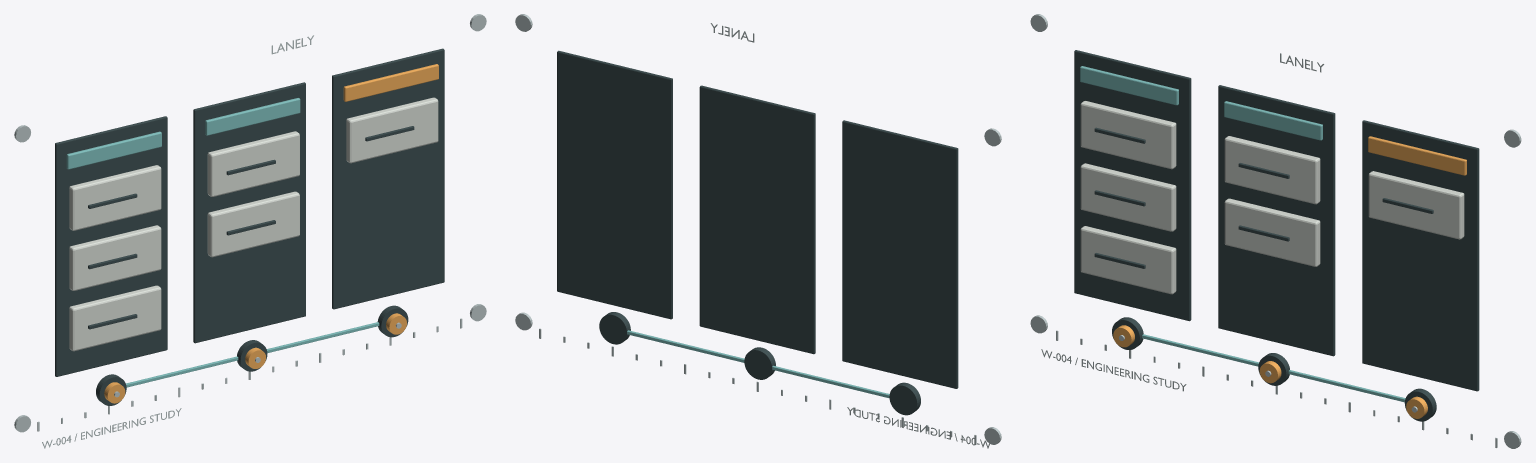
File: lanely.glb
3 views of the same model, side by side, from view 1: azimuth 30°, elevation 25°; view 2: azimuth 150°, elevation 25°; view 3: azimuth 330°, elevation 25° (orthographic). The views are drawn at different scales.
Visible parts, largest first — view 1: optical-core__Project_Graphite.003, optical-core__Project_Ceramic.002, optical-core__Project_Trace.001, optical-core__Project_Amber.003, optical-lenses__Project_Silver.003, optical-lenses__Project_Graphite, optical-lenses__Project_Trace.003; view 2: optical-core__Project_Graphite.003, optical-lenses__Project_Silver.003, optical-lenses__Project_Trace.003; view 3: optical-core__Project_Graphite.003, optical-core__Project_Ceramic.002, optical-core__Project_Trace.001, optical-core__Project_Amber.003, optical-lenses__Project_Silver.003, optical-lenses__Project_Graphite, optical-lenses__Project_Trace.003.
Part boxes in pixels (x1=…): optical-core__Project_Graphite.003: x1=55, y1=48, x2=444, y2=405; optical-core__Project_Ceramic.002: x1=69, y1=97, x2=438, y2=351; optical-core__Project_Trace.001: x1=66, y1=98, x2=300, y2=169; optical-core__Project_Amber.003: x1=104, y1=64, x2=438, y2=403; optical-lenses__Project_Silver.003: x1=14, y1=14, x2=486, y2=448; optical-lenses__Project_Graphite: x1=88, y1=126, x2=414, y2=329; optical-lenses__Project_Trace.003: x1=126, y1=322, x2=379, y2=387; optical-core__Project_Graphite.003: x1=557, y1=50, x2=958, y2=415; optical-lenses__Project_Silver.003: x1=515, y1=14, x2=1001, y2=448; optical-lenses__Project_Trace.003: x1=627, y1=330, x2=889, y2=398; optical-core__Project_Graphite.003: x1=1074, y1=50, x2=1479, y2=421; optical-core__Project_Ceramic.002: x1=1080, y1=101, x2=1464, y2=294; optical-core__Project_Trace.001: x1=1080, y1=66, x2=1322, y2=140; optical-core__Project_Amber.003: x1=1113, y1=136, x2=1466, y2=418; optical-lenses__Project_Silver.003: x1=1030, y1=14, x2=1521, y2=448; optical-lenses__Project_Graphite: x1=1094, y1=127, x2=1433, y2=268; optical-lenses__Project_Trace.003: x1=1142, y1=334, x2=1405, y2=402.
Size of the model in its own units: 4.01 by 2.83 by 0.1512.
